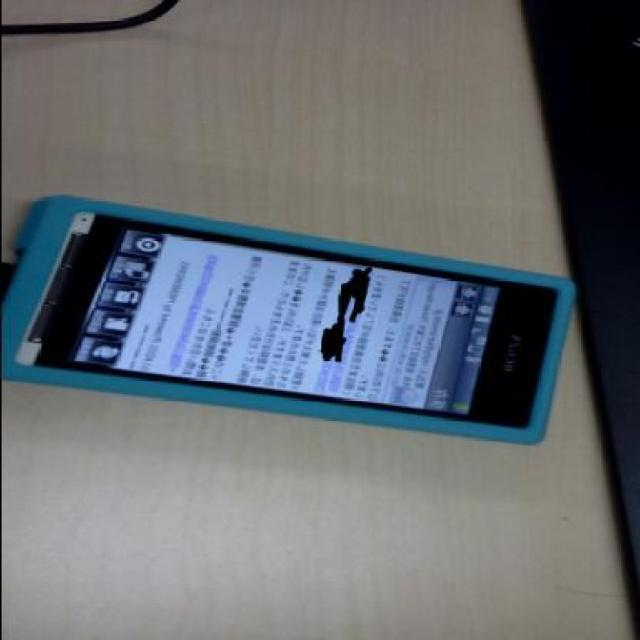phone: (0, 193, 578, 449)
